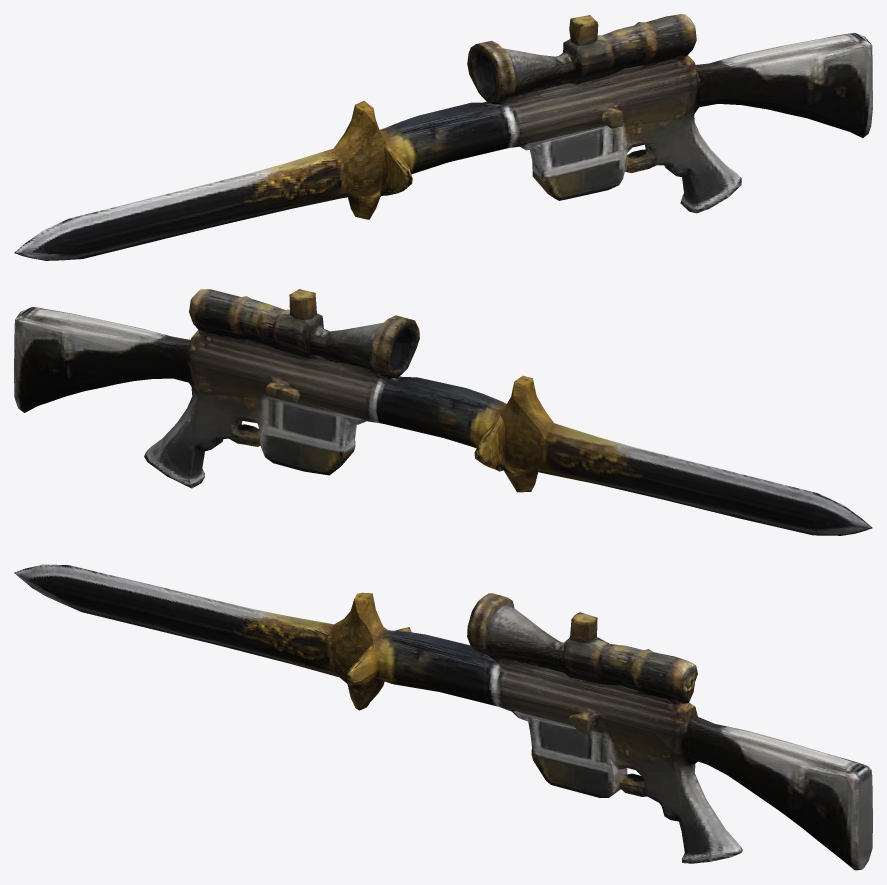
The model's file is yitian.glb.
3 views of the same model, one above another, from view 1: azimuth 30°, elevation 25°; view 2: azimuth 150°, elevation 25°; view 3: azimuth 330°, elevation 25° (orthographic).
Parts seen in each view (by area): view 1: geometry_0; view 2: geometry_0; view 3: geometry_0.
Boxes of the visible parts, <box> form: geometry_0: <box>14,14,872,260</box>; geometry_0: <box>14,289,872,535</box>; geometry_0: <box>14,564,872,870</box>.
Bounding box in the file's own units: 0.9921 × 0.2396 × 0.1295.
1 material, 1 textured.
